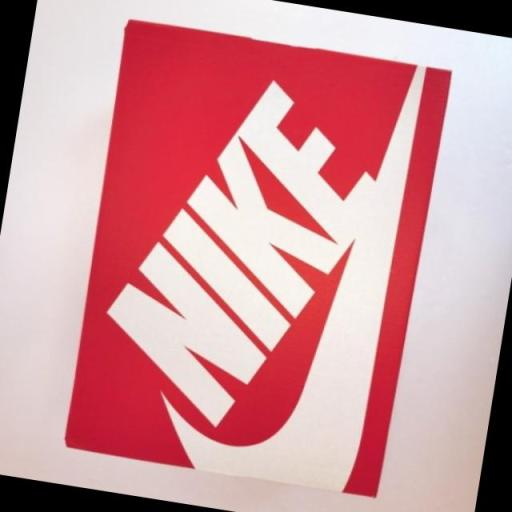Nike: (92, 64, 394, 434)
